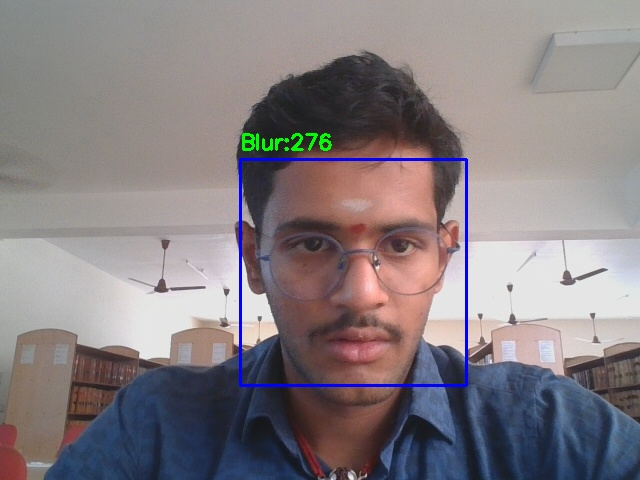real: (240, 159, 466, 385)
